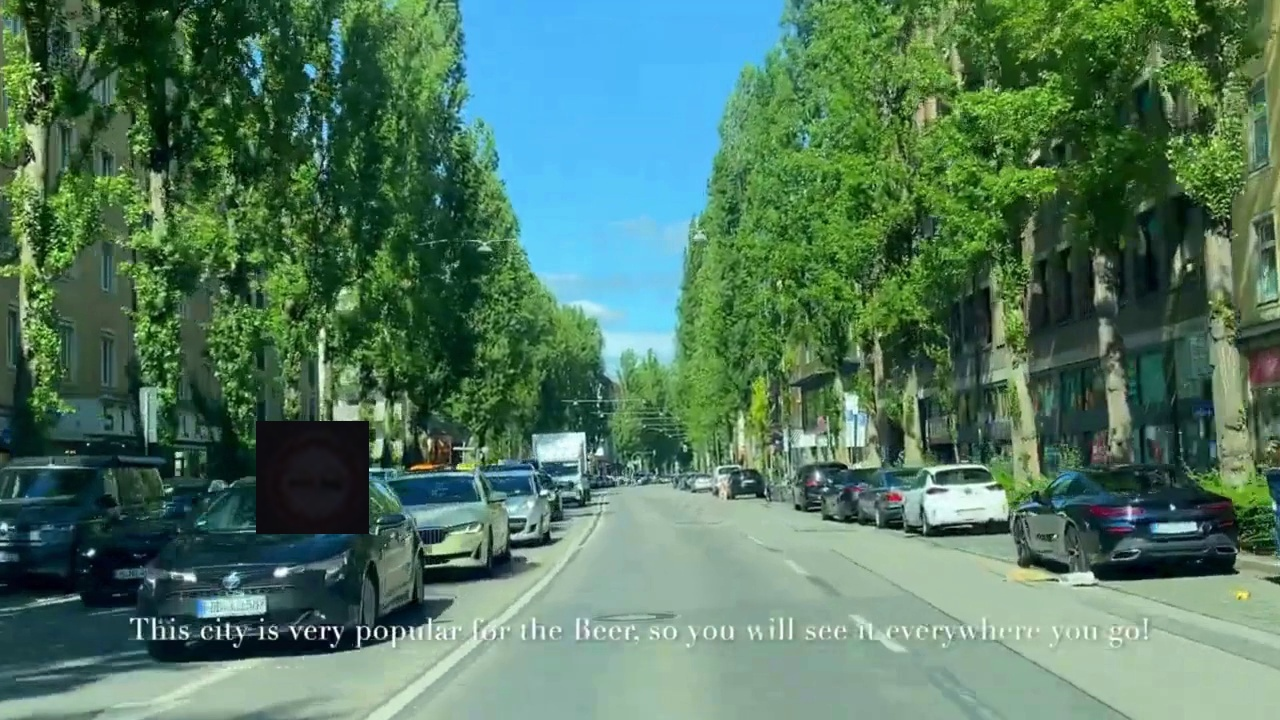No passing: (256, 421, 369, 534)
